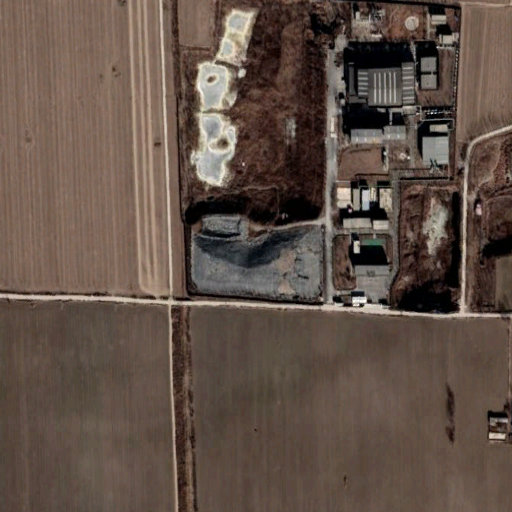lf: (184, 222, 327, 304)
